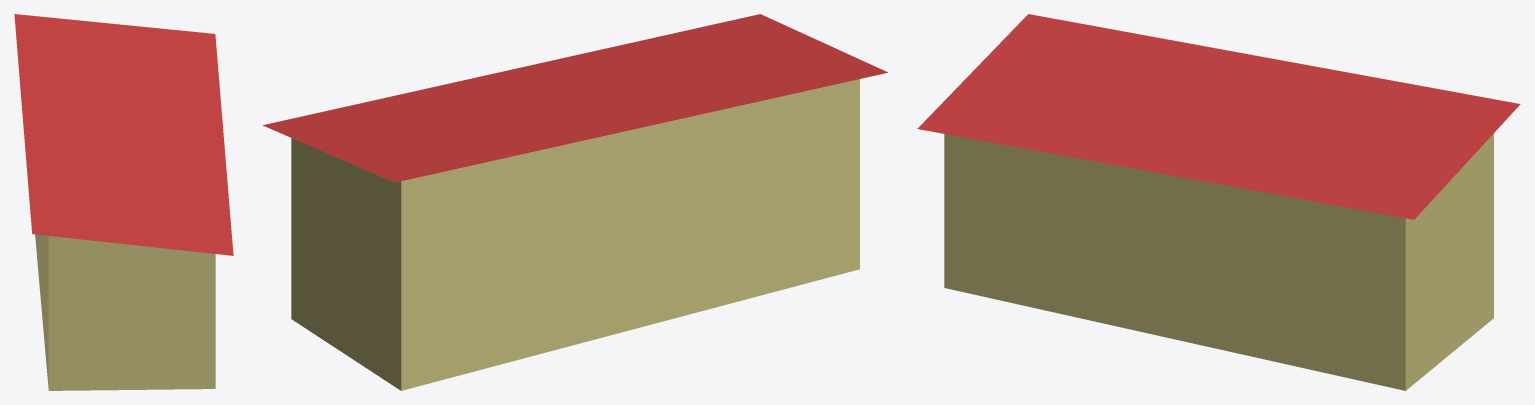
The picture shows the model from 3 angles, left to right: view 1: azimuth 30°, elevation 25°; view 2: azimuth 150°, elevation 25°; view 3: azimuth 270°, elevation 25°; orthographic projection. The views are drawn at different scales.
Bounding box in the file's own units: 17.56 × 22.64 × 8.72.
